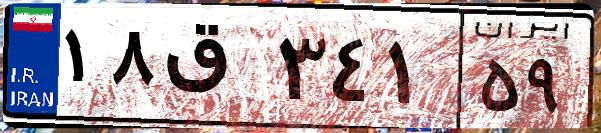1: (385, 28, 445, 110), (57, 26, 110, 100)
3: (270, 28, 330, 110)
4: (330, 28, 385, 110)
5: (475, 38, 525, 113)
8: (110, 28, 158, 98)
9: (525, 38, 570, 115)
ق: (158, 20, 270, 120)
